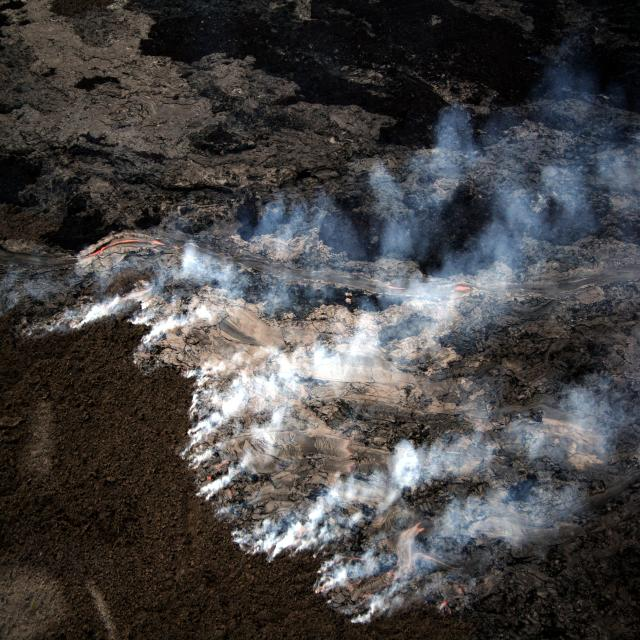Smoke: (329, 498, 532, 614), (273, 169, 396, 328), (513, 127, 640, 264), (269, 448, 422, 560), (411, 176, 517, 320), (197, 363, 282, 486), (527, 382, 612, 500), (175, 228, 248, 342), (69, 295, 134, 339)
